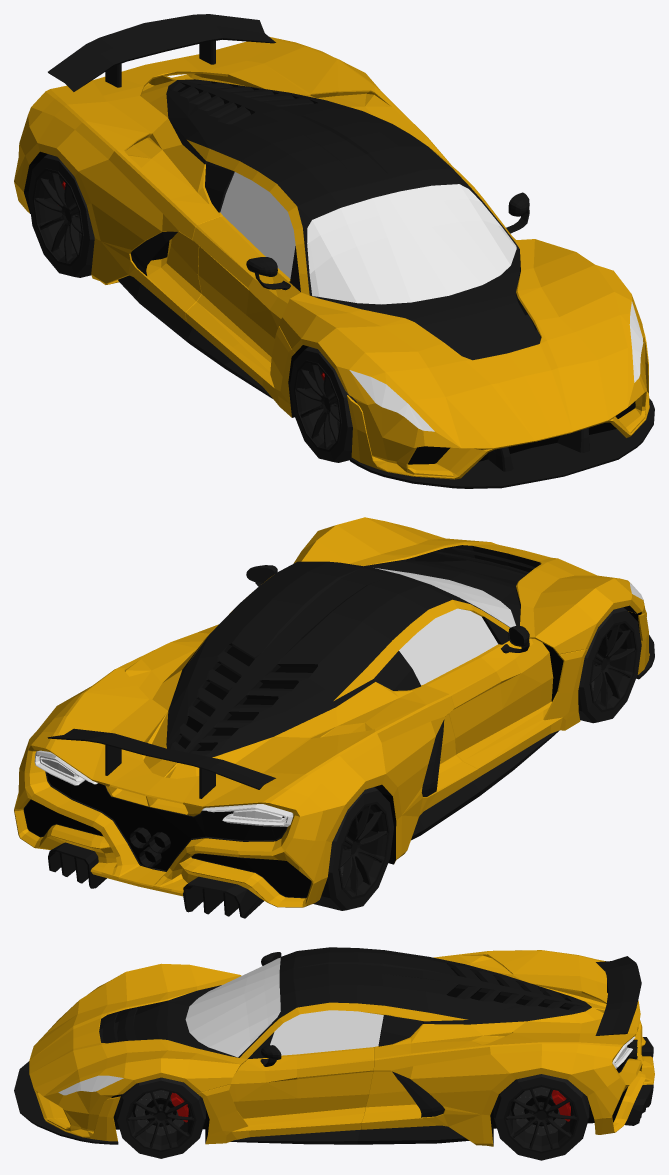
File: LP_Veh_Sports_17.fbx
The picture shows the model from 3 angles, top to bottom: view 1: azimuth 30°, elevation 25°; view 2: azimuth 150°, elevation 25°; view 3: azimuth 270°, elevation 25°; orthographic projection. The views are drawn at different scales.
Parts seen in each view (by area): view 1: LP_Veh_Sports_17, LP_Veh_Sports_Glass_002_17, LP_Veh_Sports_Wheel_004_17, LP_Veh_Sports_Wheel_002_17, LP_Veh_Sports_Glass_001_17; view 2: LP_Veh_Sports_17, LP_Veh_Sports_Wheel_004_17, LP_Veh_Sports_Glass_002_17, LP_Veh_Sports_Wheel_002_17, LP_Veh_Sports_Glass_003_17; view 3: LP_Veh_Sports_17, LP_Veh_Sports_Glass_002_17, LP_Veh_Sports_Wheel_003_17, LP_Veh_Sports_Wheel_001_17, LP_Veh_Sports_Brake disk_003_17, LP_Veh_Sports_Brake disk_001_17, LP_Veh_Sports_Glass_001_17.
Part boxes in pixels (left/top/right/bottom): LP_Veh_Sports_17: left=14, top=14, right=654, bottom=488; LP_Veh_Sports_Glass_002_17: left=220, top=172, right=516, bottom=304; LP_Veh_Sports_Wheel_004_17: left=28, top=154, right=94, bottom=277; LP_Veh_Sports_Wheel_002_17: left=290, top=346, right=356, bottom=462; LP_Veh_Sports_Glass_001_17: left=349, top=302, right=643, bottom=431; LP_Veh_Sports_17: left=14, top=517, right=654, bottom=918; LP_Veh_Sports_Wheel_004_17: left=313, top=787, right=393, bottom=910; LP_Veh_Sports_Glass_002_17: left=375, top=568, right=515, bottom=685; LP_Veh_Sports_Wheel_002_17: left=578, top=607, right=641, bottom=723; LP_Veh_Sports_Glass_003_17: left=34, top=750, right=293, bottom=826; LP_Veh_Sports_17: left=14, top=947, right=654, bottom=1146; LP_Veh_Sports_Glass_002_17: left=185, top=957, right=383, bottom=1057; LP_Veh_Sports_Wheel_003_17: left=493, top=1074, right=589, bottom=1160; LP_Veh_Sports_Wheel_001_17: left=116, top=1077, right=205, bottom=1158; LP_Veh_Sports_Brake disk_003_17: left=513, top=1087, right=570, bottom=1135; LP_Veh_Sports_Brake disk_001_17: left=134, top=1090, right=188, bottom=1135; LP_Veh_Sports_Glass_001_17: left=58, top=1075, right=123, bottom=1095.
Size of the model in its own units: 2.32 by 1.33 by 5.57.
